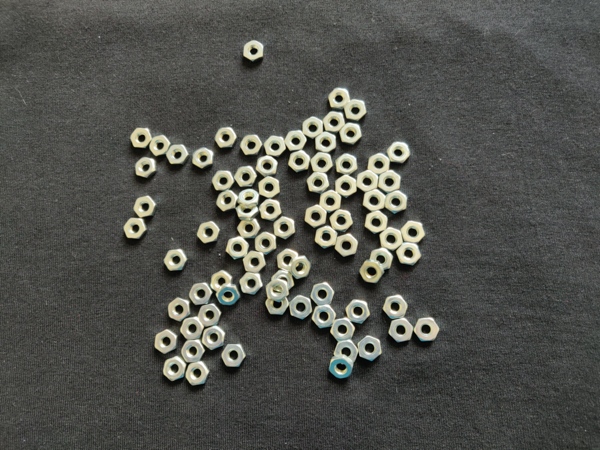nut: (388, 318, 414, 343), (413, 318, 440, 342), (185, 362, 210, 387), (358, 336, 382, 362), (345, 300, 371, 324), (311, 305, 337, 329), (163, 356, 187, 381), (202, 326, 226, 351), (384, 295, 408, 320), (401, 221, 426, 245), (330, 319, 356, 342), (359, 261, 385, 284), (155, 330, 179, 354), (289, 296, 313, 320), (397, 242, 421, 266), (181, 341, 206, 364), (311, 282, 334, 307), (222, 345, 246, 368), (180, 317, 204, 340), (168, 298, 191, 322), (330, 356, 354, 379), (370, 248, 394, 271), (380, 228, 403, 252), (226, 237, 249, 261), (366, 211, 389, 235), (199, 304, 222, 327), (190, 283, 213, 306), (266, 280, 289, 303), (335, 234, 358, 257), (315, 226, 338, 249), (364, 189, 387, 212), (239, 273, 263, 295), (289, 256, 311, 280), (385, 190, 407, 214), (387, 142, 411, 164), (334, 341, 359, 362), (123, 218, 148, 239), (133, 197, 158, 218), (217, 284, 240, 306), (272, 271, 295, 293), (277, 249, 299, 272), (243, 251, 266, 273), (330, 210, 353, 232), (305, 205, 327, 228), (320, 190, 342, 213), (379, 171, 401, 194), (336, 175, 358, 198), (259, 200, 282, 222), (238, 187, 261, 209), (234, 166, 257, 188), (307, 172, 330, 194), (284, 130, 307, 152), (340, 123, 363, 145), (164, 250, 188, 271), (211, 271, 233, 293), (274, 217, 296, 239), (357, 171, 379, 193), (256, 156, 278, 178), (289, 151, 311, 173), (336, 154, 358, 176), (345, 99, 367, 121), (266, 294, 289, 315), (255, 233, 276, 256), (368, 154, 391, 175), (259, 176, 280, 199), (311, 153, 334, 174), (166, 145, 190, 165), (198, 222, 220, 243), (135, 157, 157, 178), (130, 128, 152, 149), (193, 147, 214, 169), (215, 128, 237, 149), (264, 136, 286, 157), (315, 132, 337, 153), (323, 112, 345, 133), (328, 88, 350, 109), (240, 135, 263, 155), (237, 219, 261, 238), (243, 41, 264, 62), (217, 191, 239, 211), (303, 117, 323, 139), (235, 203, 259, 221), (150, 136, 171, 156), (213, 172, 235, 191)
